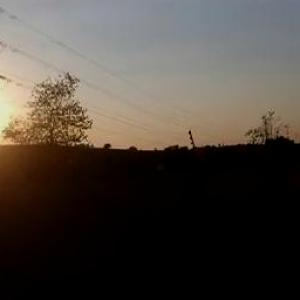follow: (234, 144, 300, 299)
